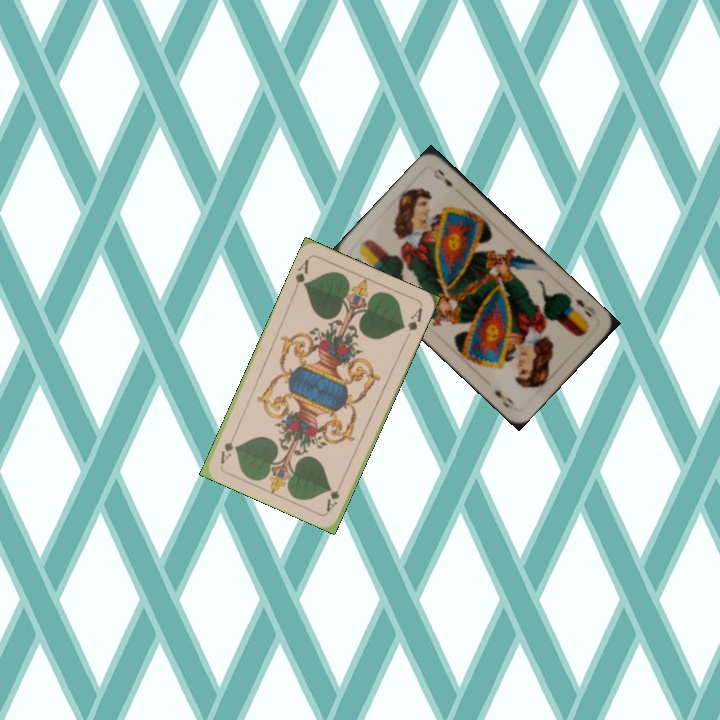EO: (571, 294, 595, 320)
GA: (322, 476, 346, 514), (290, 255, 312, 293)
